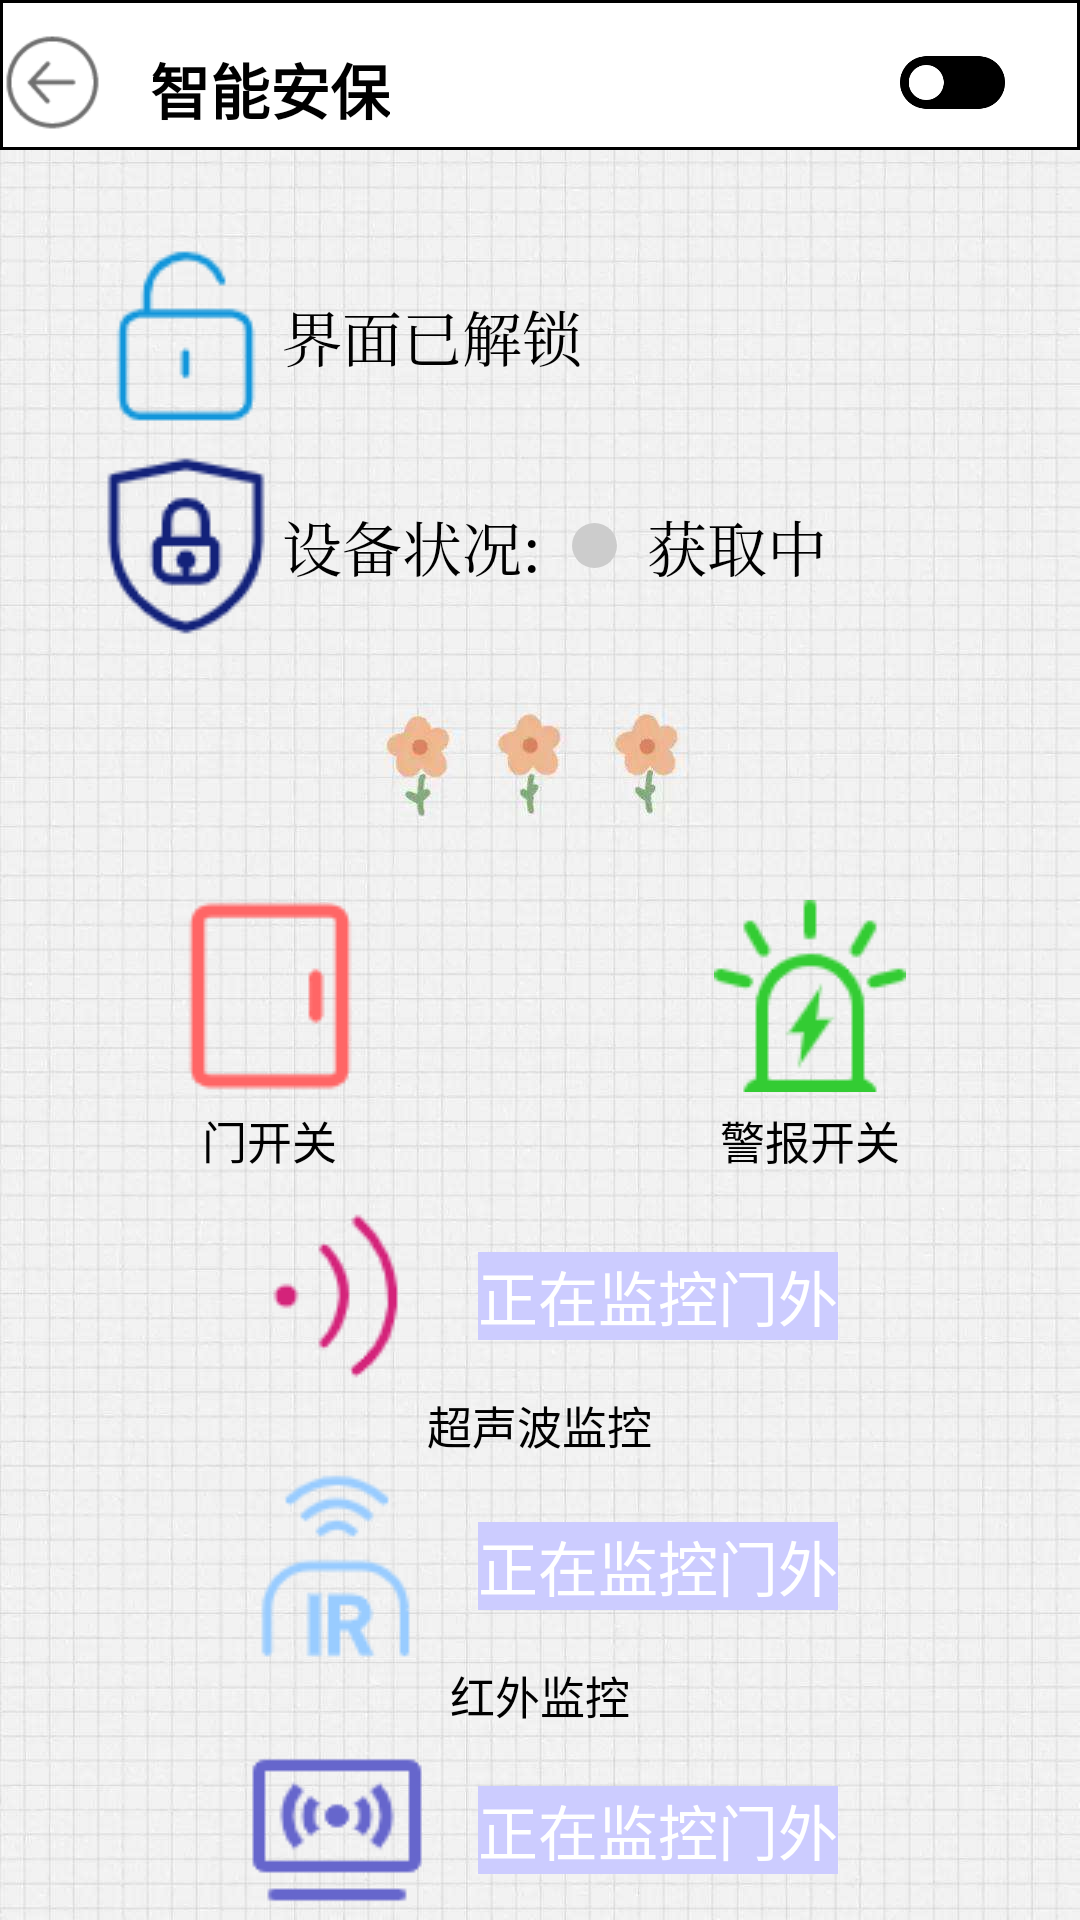

Where icons sit on this 1080x1920 app screen, as bbox=[x1, y1, x2, y2]:
alarmoff: bbox=[714, 900, 906, 1092]
doorclose: bbox=[175, 900, 364, 1091]
monitor: bbox=[245, 1758, 432, 1910]
pir: bbox=[245, 1475, 419, 1662]
secure: bbox=[97, 456, 271, 634]
unlock: bbox=[97, 251, 271, 421]
